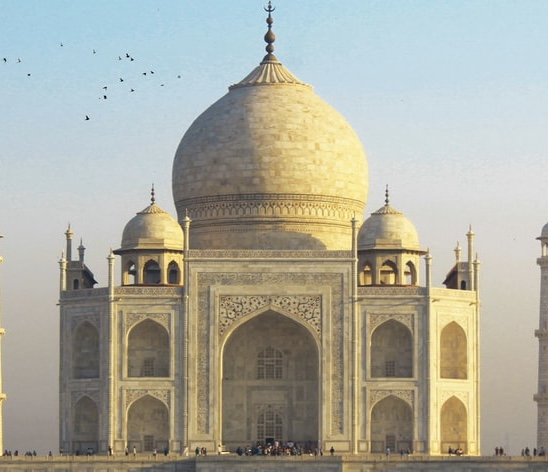Mosque: (37, 9, 503, 452)
